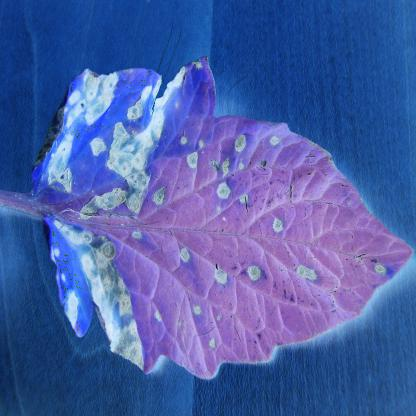Tomato Septoria leaf spot: (27, 48, 414, 398)
